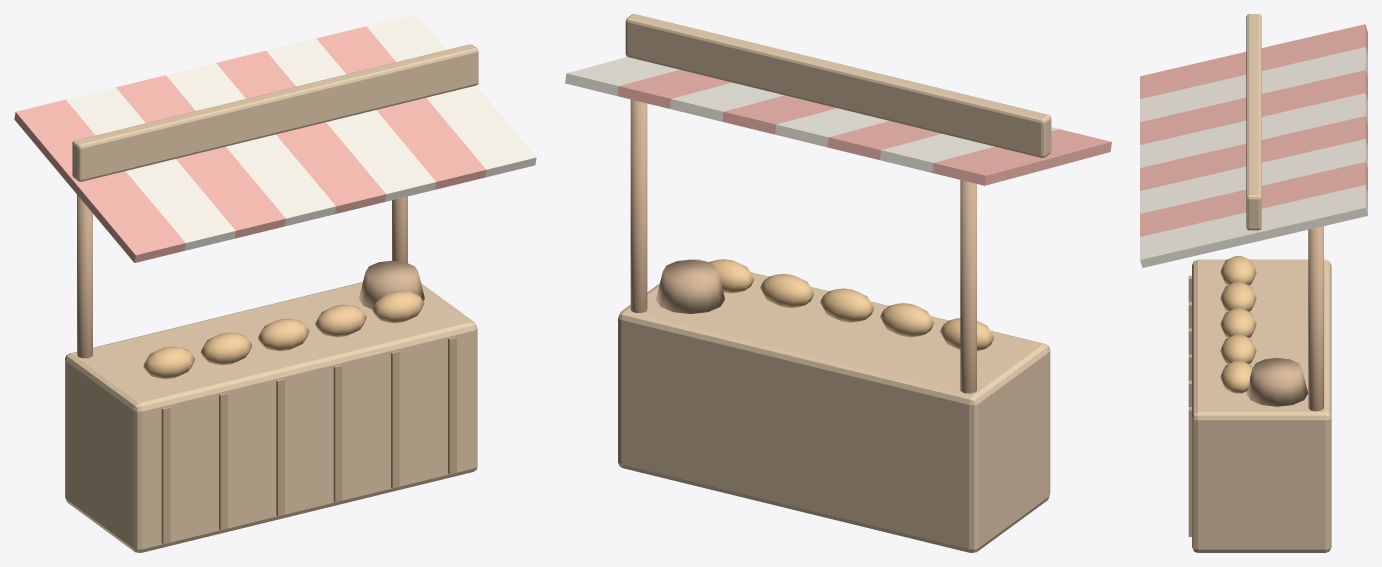
The model's file is market_stall.glb.
The picture shows the model from 3 angles, left to right: view 1: azimuth 30°, elevation 25°; view 2: azimuth 150°, elevation 25°; view 3: azimuth 270°, elevation 25°; orthographic projection. The views are drawn at different scales.
Parts seen in each view (by area): view 1: market_stall; view 2: market_stall; view 3: market_stall.
Part boxes in pixels (box(x1,y1,x2,y2)): market_stall: box(14, 14, 536, 552); market_stall: box(565, 14, 1111, 552); market_stall: box(1140, 14, 1367, 552).
Size of the model in its own units: 2.8 by 2.64 by 1.47.
